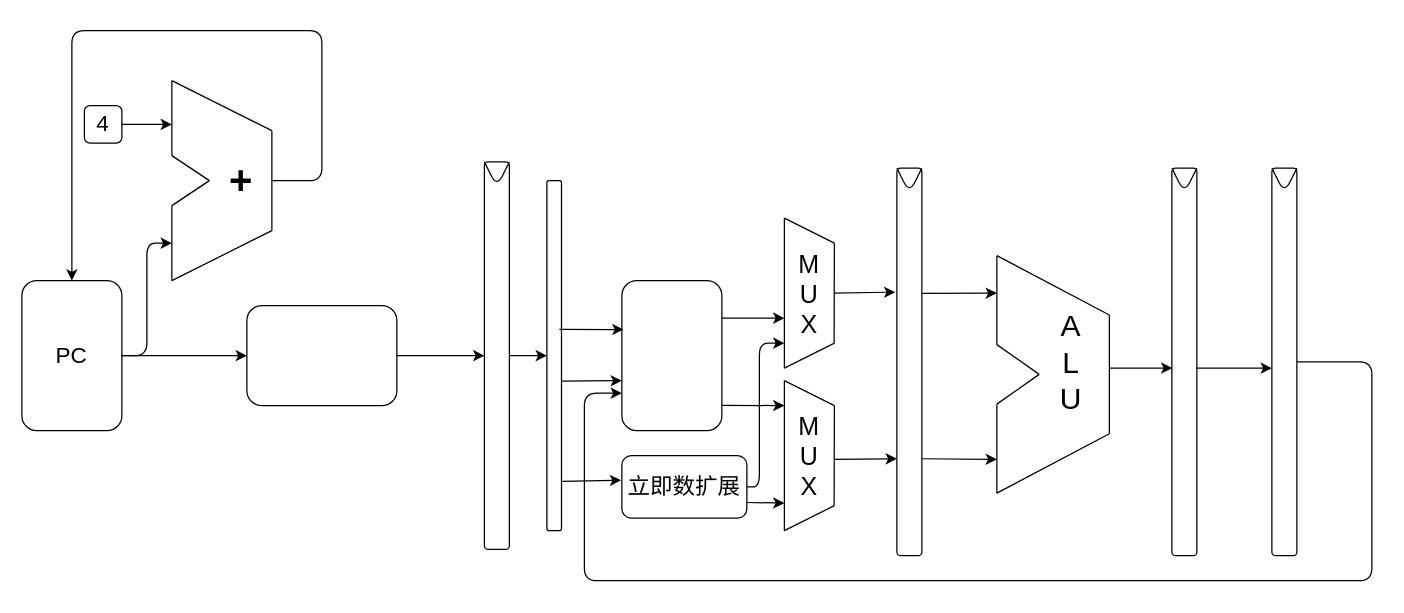
This 1404x613 diagram has some shape labels left out. The shapes that lost their labels are listed below. From the top down, each one's centre as x and y in pixels, then its label:
At point (321, 355): "I$".
At point (671, 355): "寄存器".
